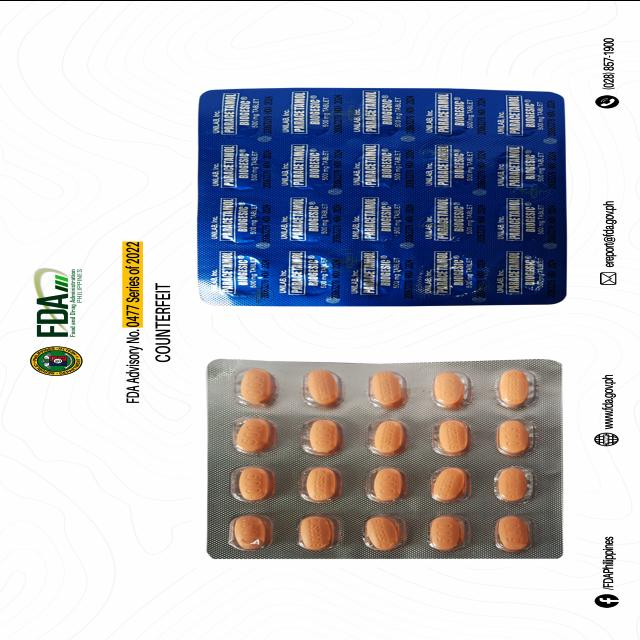counterfeit: (196, 87, 568, 306), (204, 355, 563, 557)
